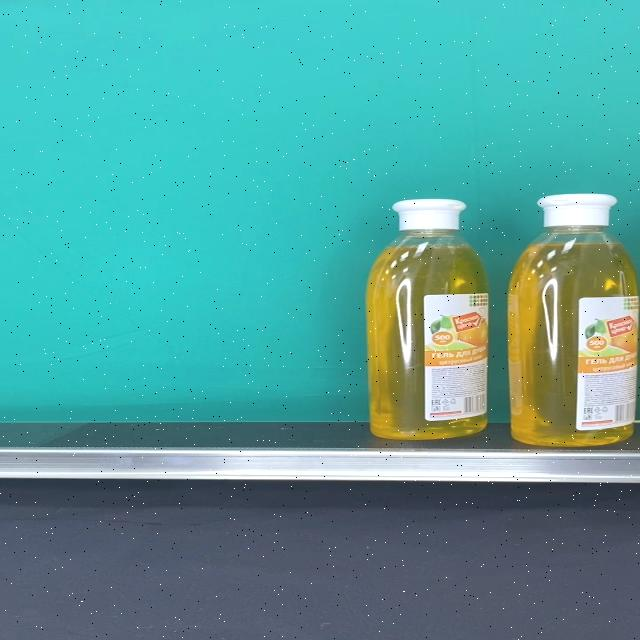Bottle: (508, 194, 640, 446), (366, 200, 491, 439)
Cap: (537, 194, 619, 227), (391, 200, 466, 230)
